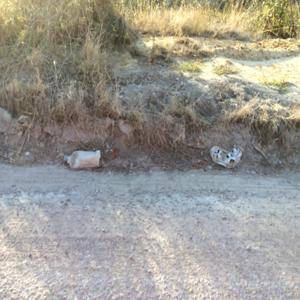plastic: (205, 143, 246, 171)
plastic bottle: (72, 146, 108, 170)
